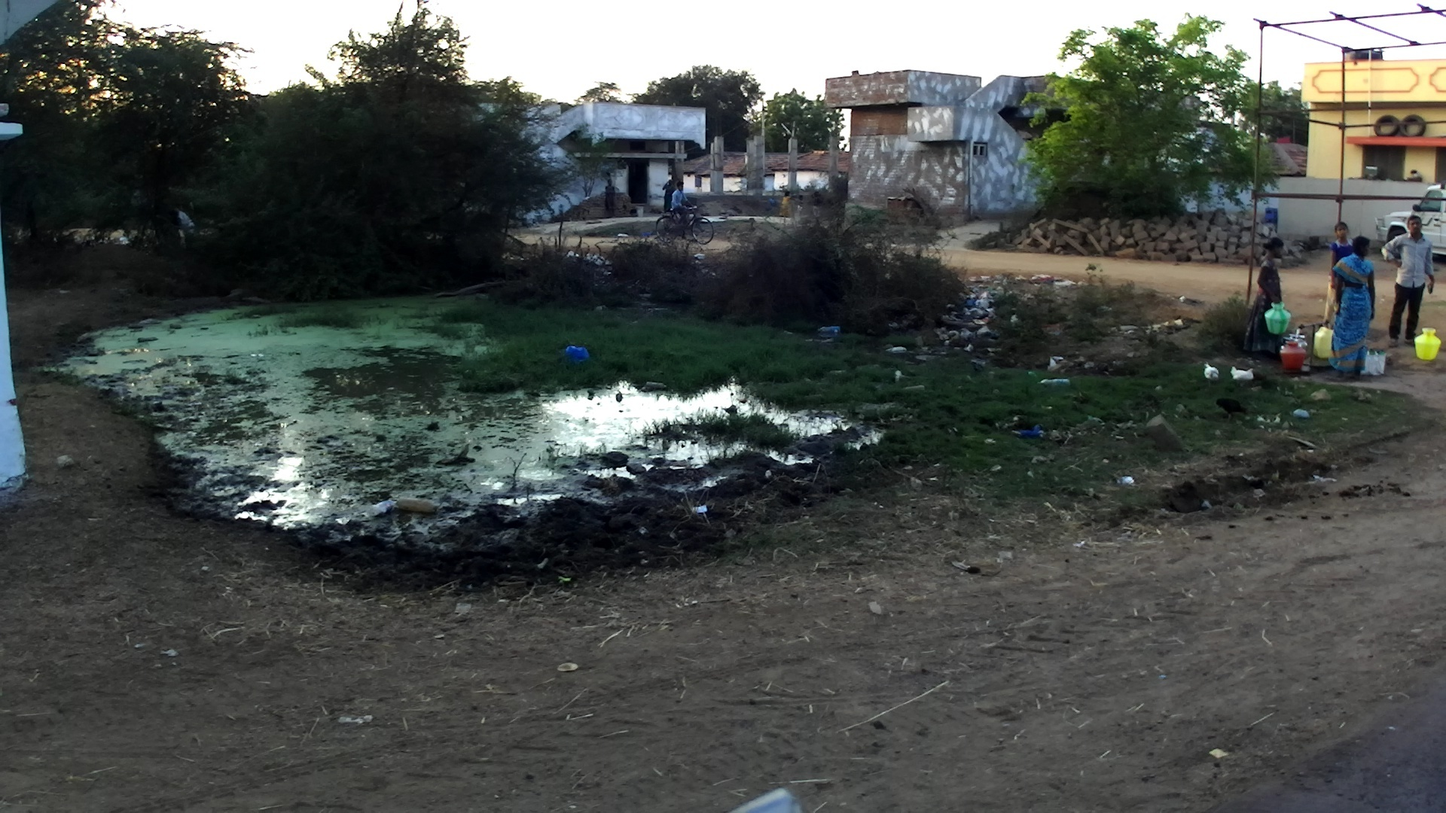bicycle: (654, 206, 715, 244)
car: (1376, 184, 1446, 262)
person: (1323, 236, 1377, 379), (1380, 215, 1436, 349), (1242, 237, 1285, 359), (1321, 222, 1354, 328), (605, 178, 617, 220), (662, 179, 675, 215), (778, 189, 792, 218), (812, 190, 822, 218), (798, 194, 804, 217)
rider: (670, 181, 692, 241)
